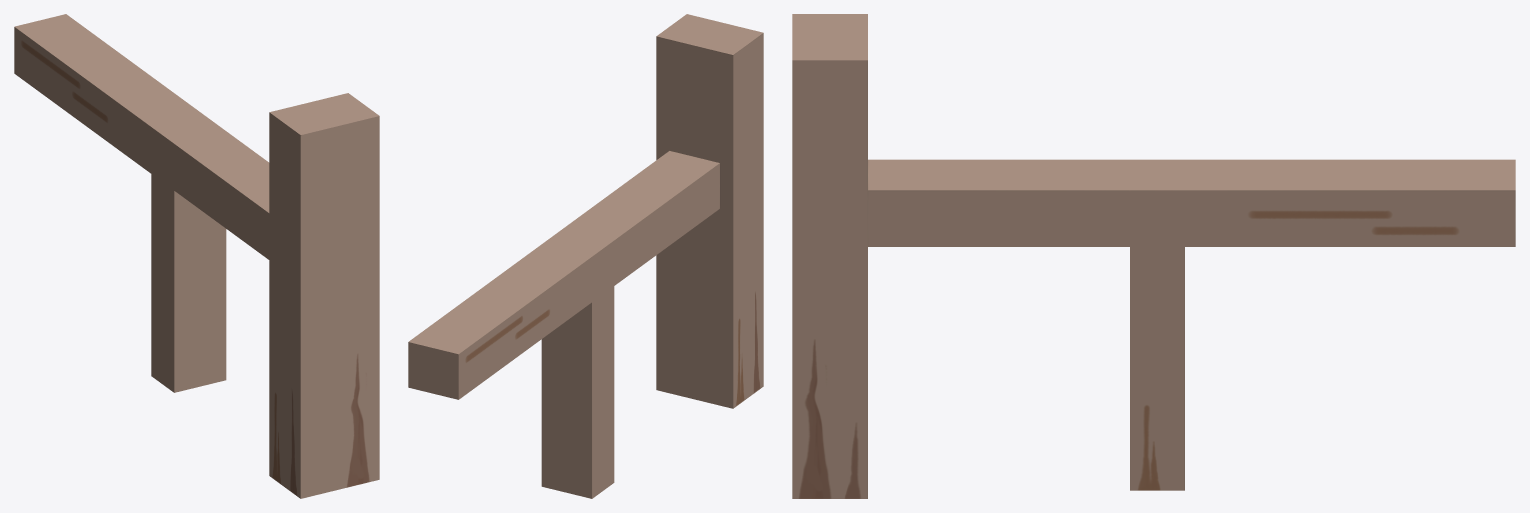
Rendered from Fence A.fbx.
3 renders of one model, left to right at view 1: azimuth 30°, elevation 25°; view 2: azimuth 150°, elevation 25°; view 3: azimuth 270°, elevation 25°, orthographic. The views are drawn at different scales.
Parts seen in each view (by area): view 1: Cube; view 2: Cube; view 3: Cube.
Boxes of the visible parts, bbox=[...] form: Cube: bbox=[14, 14, 379, 498]; Cube: bbox=[408, 14, 763, 498]; Cube: bbox=[792, 14, 1515, 498].
Size of the model in its own units: 76.92 by 338 by 506.
1 material, 1 textured.
